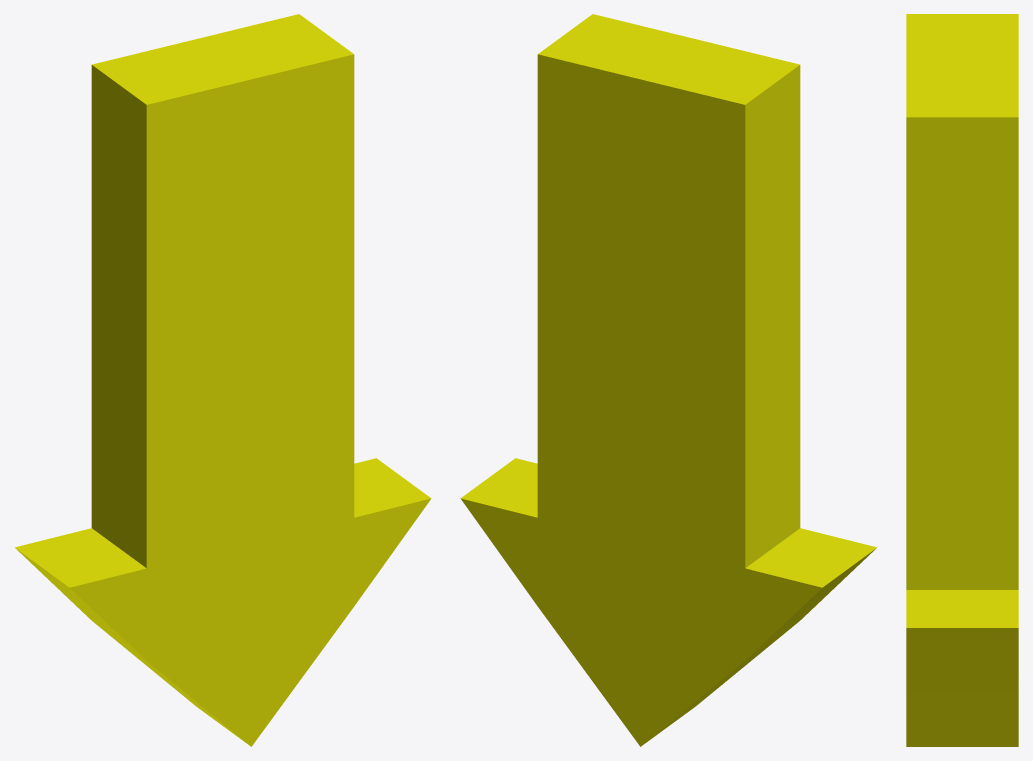
Rendered from arrow.fbx.
3 views of the same model, side by side, from view 1: azimuth 30°, elevation 25°; view 2: azimuth 150°, elevation 25°; view 3: azimuth 270°, elevation 25° (orthographic).
Visible parts, largest first — view 1: arrow; view 2: arrow; view 3: arrow.
Part boxes in pixels (x1,y1,x2,y2): arrow: (15, 14, 431, 746); arrow: (460, 14, 876, 746); arrow: (906, 14, 1018, 746).
Bounding box in the file's own units: 1.11 × 1.96 × 0.293.
